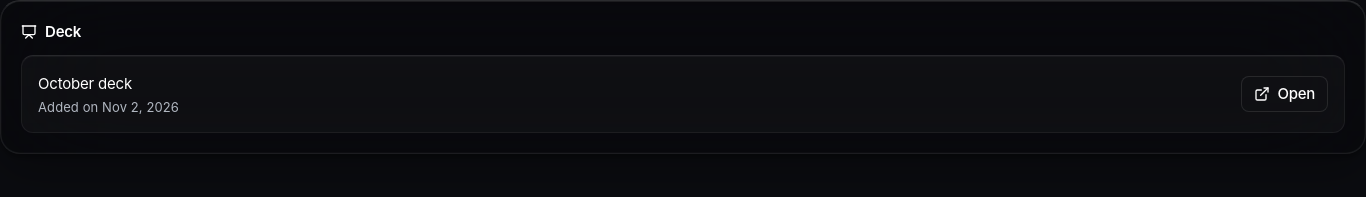
P07-06 Open a deck file when no link can be made › says the deck did not open instead of showing nothing
The image size is (1366, 197).
Click the button with aria-label "Open October deck". click: (1284, 94)
box: 1241,76 -> 1328,112
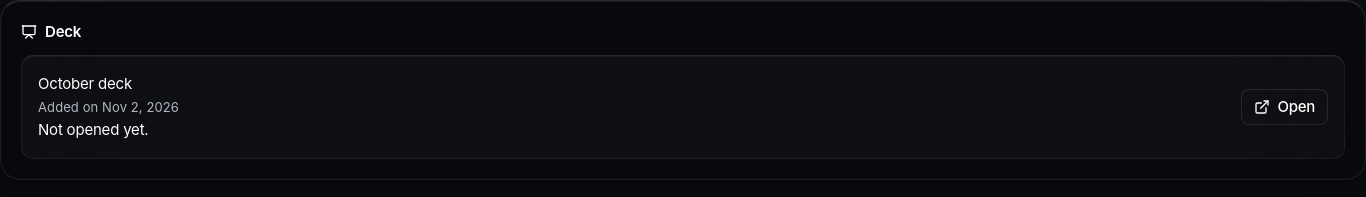
Check: the message reads "Not opened yet.", box 38,120 -> 148,139
